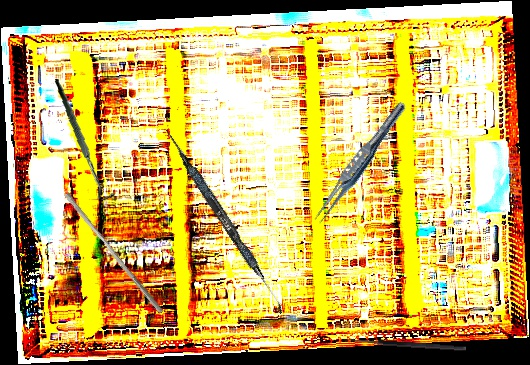Hook Surgical: (42, 79, 127, 201), (341, 336, 467, 358)
Pusher: (59, 191, 169, 315)
Spatula Surgical: (159, 128, 291, 314)
Tissue Forceps: (308, 97, 411, 230)
